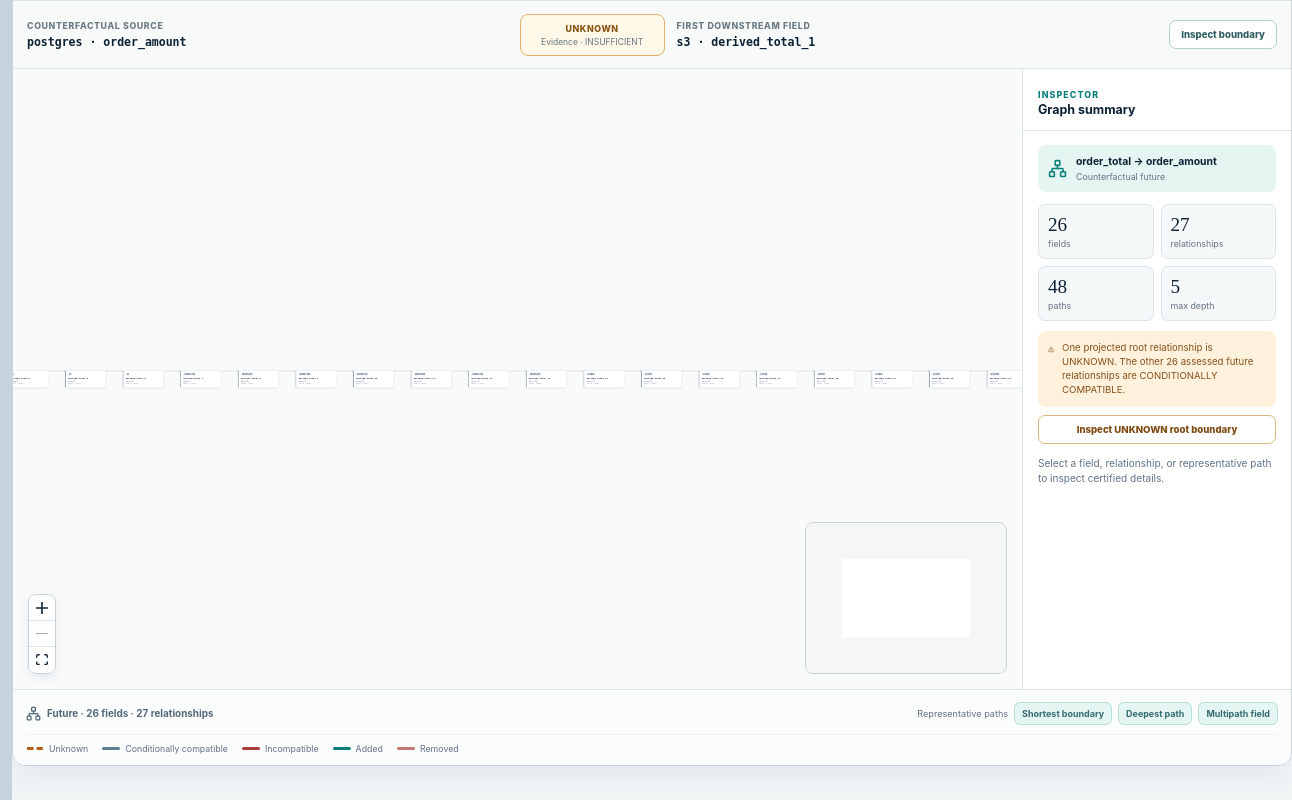
Test: GraphWorkspace › selects the deepest representative certified path
(page scrolled)
expect the text "Graph summary" is shown: met, box 1038,102 -> 1136,117
Click the button "Deepest path": point(1155, 713) 1118,702 -> 1192,724
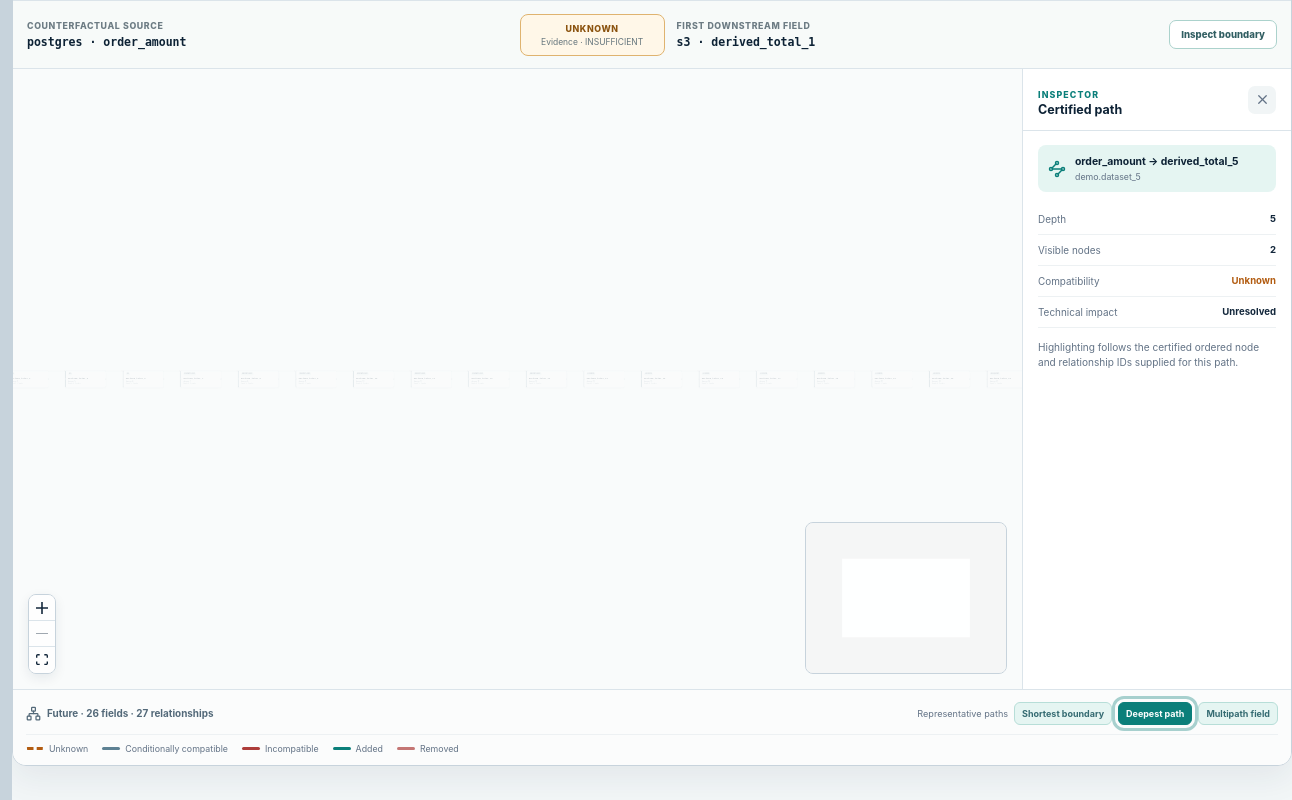
expect the text "Certified path" is shown: met, box 1038,102 -> 1122,117
